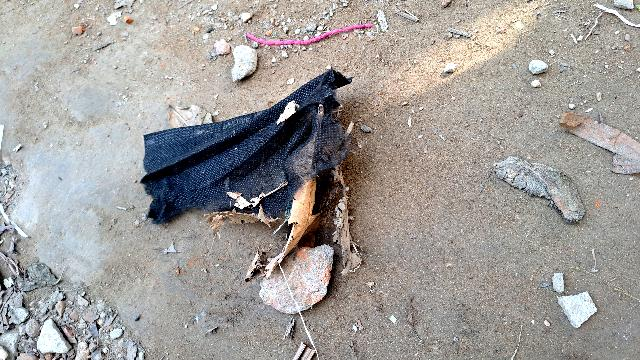mask: (117, 61, 371, 240)
